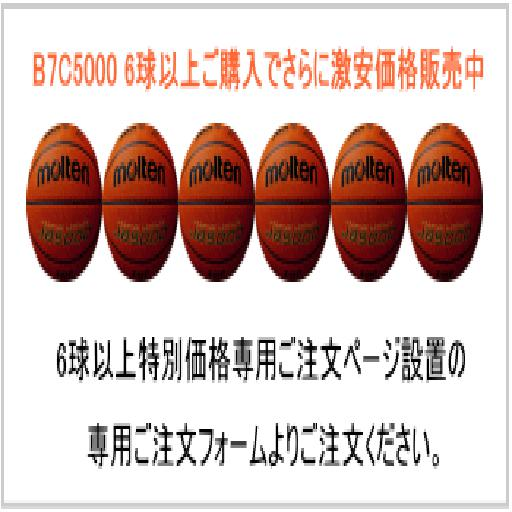ball: (26, 122, 101, 282)
